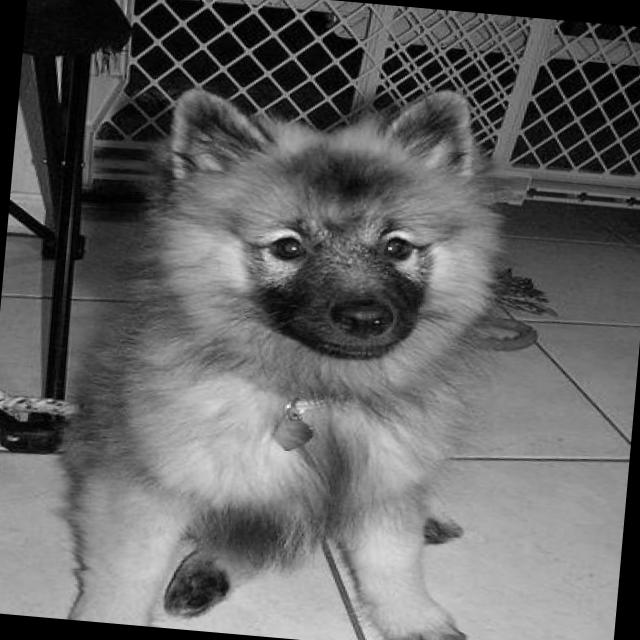sitting: (27, 53, 538, 640)
